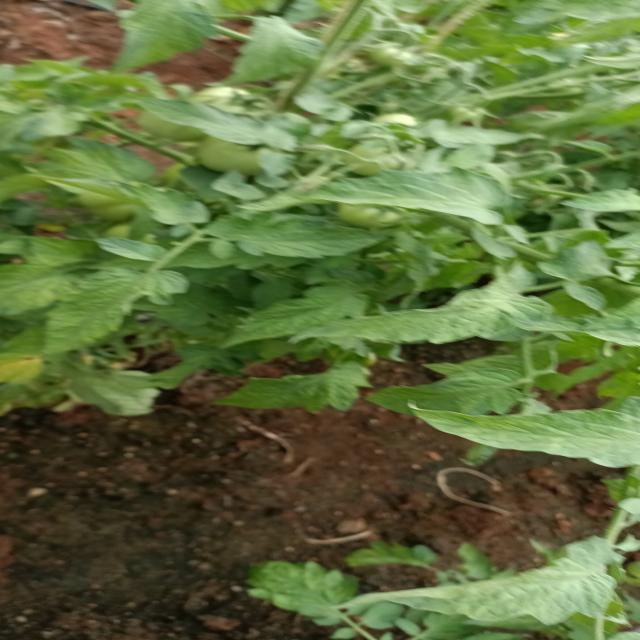Healthy Leaf: (339, 545, 640, 623), (314, 172, 539, 230), (234, 223, 395, 261), (116, 176, 208, 230)
